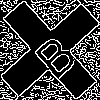B: (25, 25, 81, 82)
